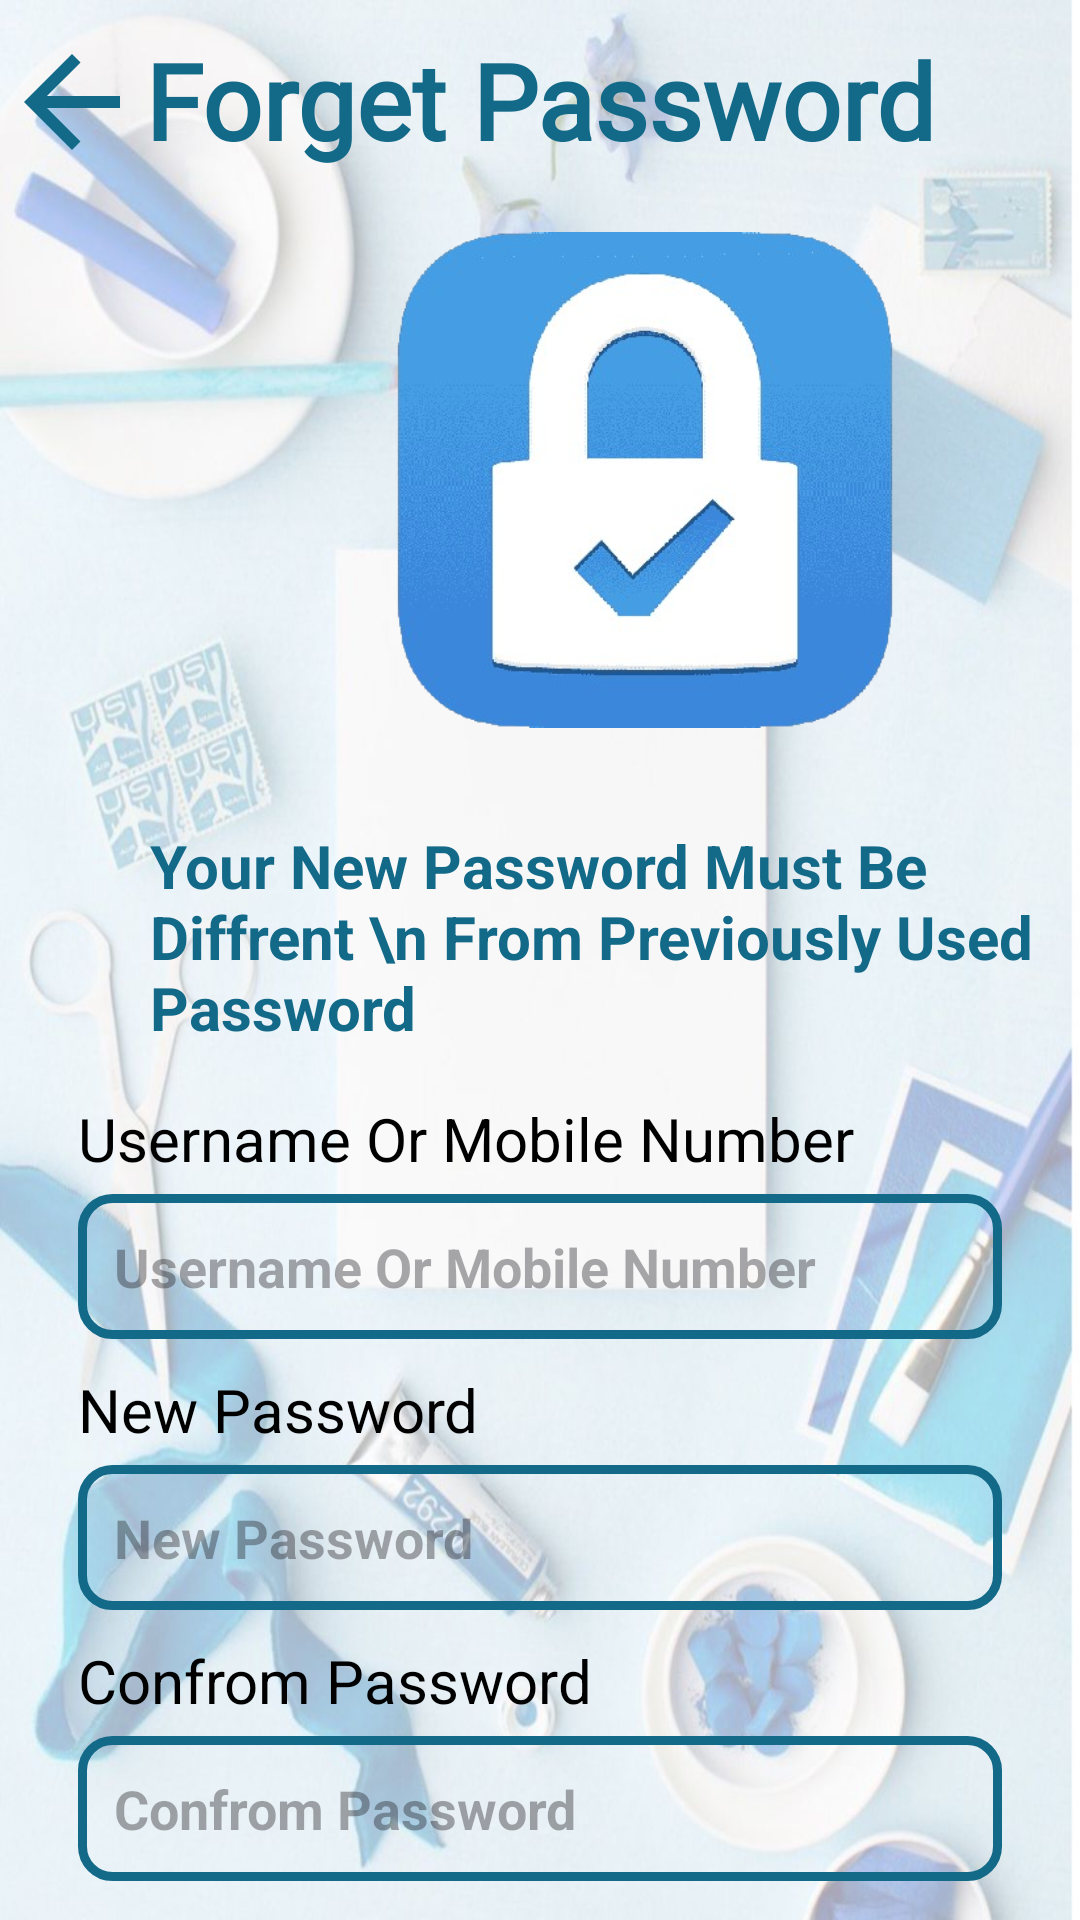

Screen size 1080w x 1920h. Icon name, then its center in pixels as (x=x, y=y):
arrow back brown: (x=84, y=114)
